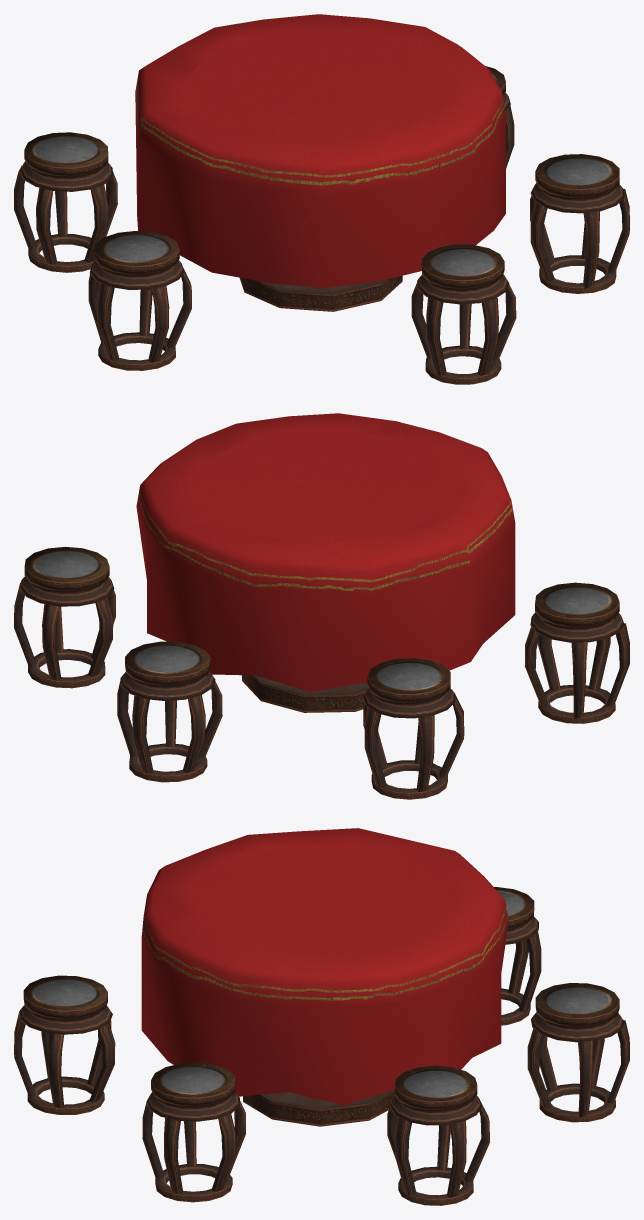
Rendered from Table_12.FBX.
3 renders of one model, top to bottom at view 1: azimuth 30°, elevation 25°; view 2: azimuth 150°, elevation 25°; view 3: azimuth 270°, elevation 25°, orthographic.
Parts seen in each view (by area): view 1: Table_12; view 2: Table_12; view 3: Table_12.
Part boxes in pixels (x1,y1,x2,y2): Table_12: [14, 14, 629, 384]; Table_12: [14, 413, 629, 799]; Table_12: [14, 828, 629, 1205].
Bounding box in the file's own units: 98.4 × 36.14 × 105.
